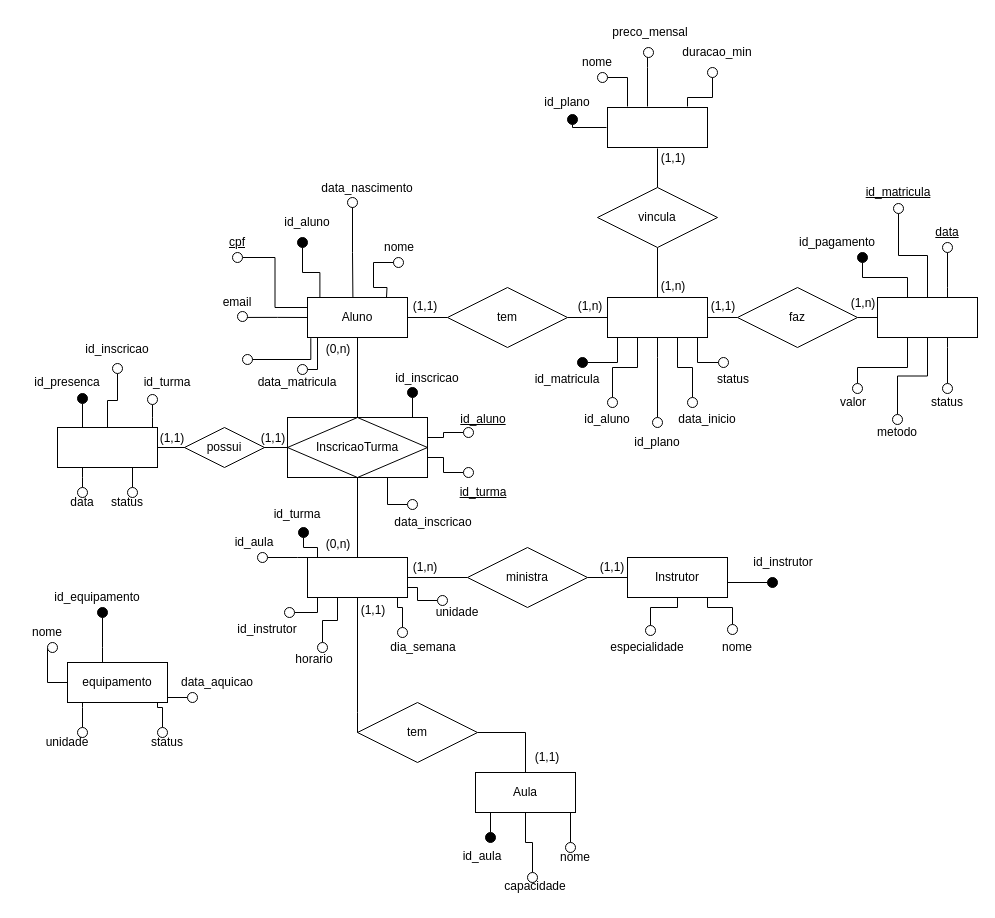
Some shapes in this 995 by 918 pixel diagram are drawn without their labels. Each missing label, with the centre of its shape:
"Frequencia" goes at (x=107, y=447).
"Matricula" goes at (x=657, y=317).
"Pagamento" goes at (x=927, y=317).
"Plano" goes at (x=657, y=127).
"Turma" goes at (x=357, y=577).
